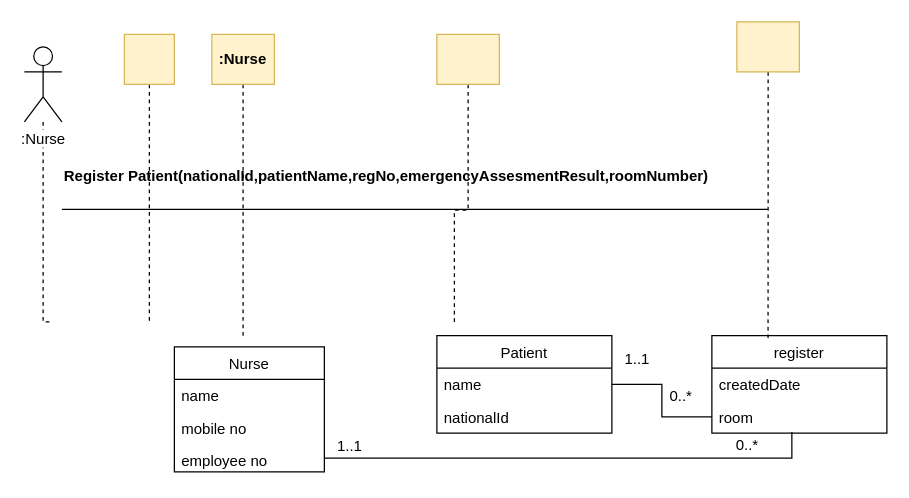
Image size: 909x498. Some labels were removed from this diagram. Here are the shapes that lost their labels. From the top down, the centre of each, then its label:
At (x=148, y=58): ":UI".
At (x=467, y=58): ":Patient".
At (x=767, y=46): ":Register".
